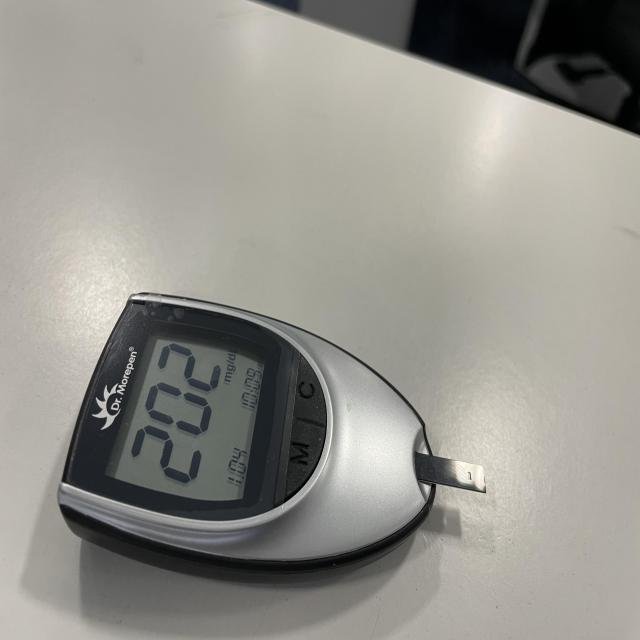gluco: (57, 294, 461, 579)
